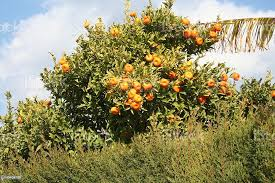orange: (133, 93, 143, 103)
